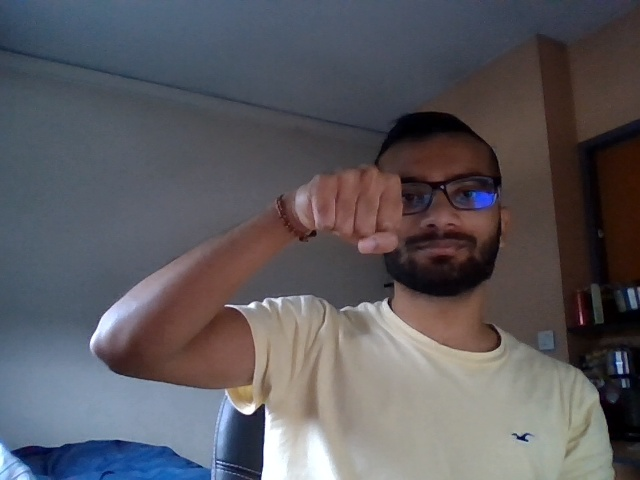Yes: (277, 156, 413, 266)
